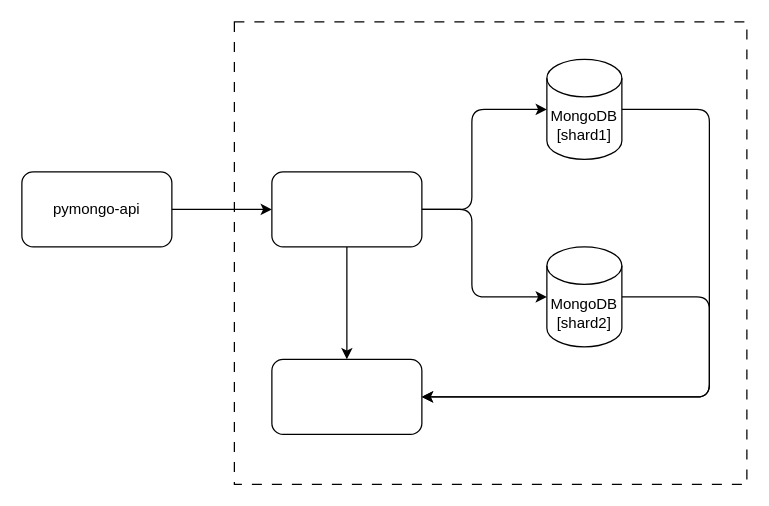
Some shapes in this 769 by 506 pixel diagram are drawn without their labels. The shapes that lost their labels are listed below. From the top down, each one's centre as x and y in pixels, then its label:
At (346,209): "Router".
At (346,396): "Config Server".
